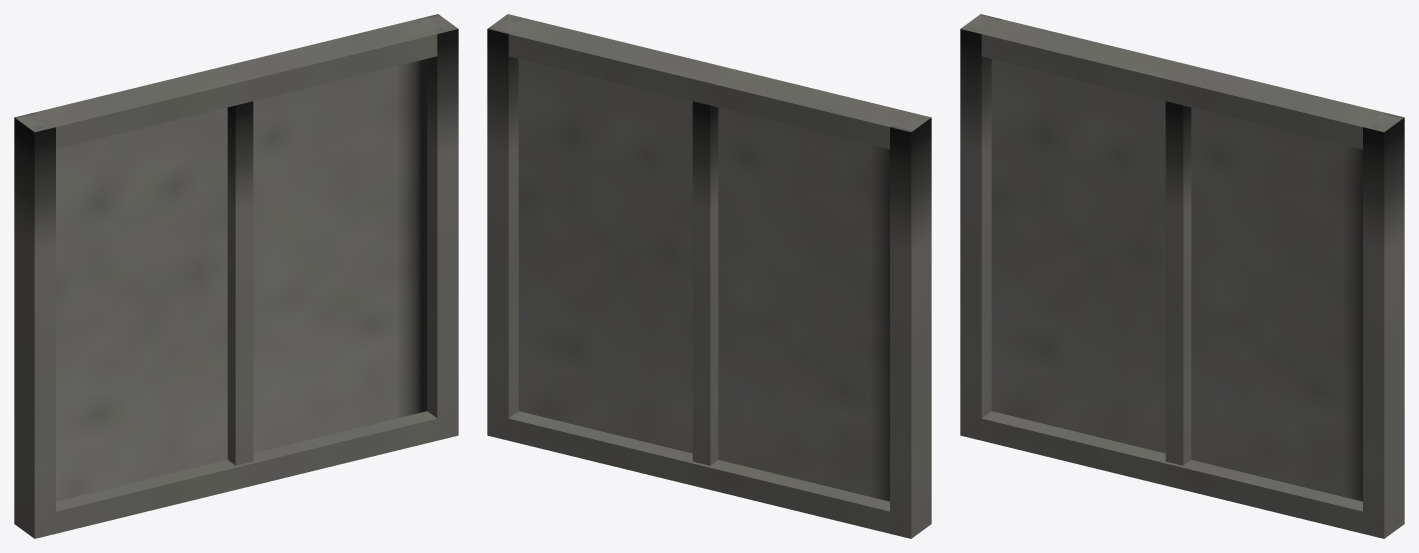
File: window_white.fbx
3 renders of one model, left to right at view 1: azimuth 30°, elevation 25°; view 2: azimuth 150°, elevation 25°; view 3: azimuth 330°, elevation 25°, orthographic.
Visible parts, largest first — view 1: window_white; view 2: window_white; view 3: window_white.
Boxes of the visible parts, x1=… form: window_white: x1=14, y1=14, x2=458, y2=538; window_white: x1=487, y1=14, x2=931, y2=538; window_white: x1=960, y1=14, x2=1404, y2=538.
Size of the model in its own units: 1.2 by 1.1 by 0.1.
